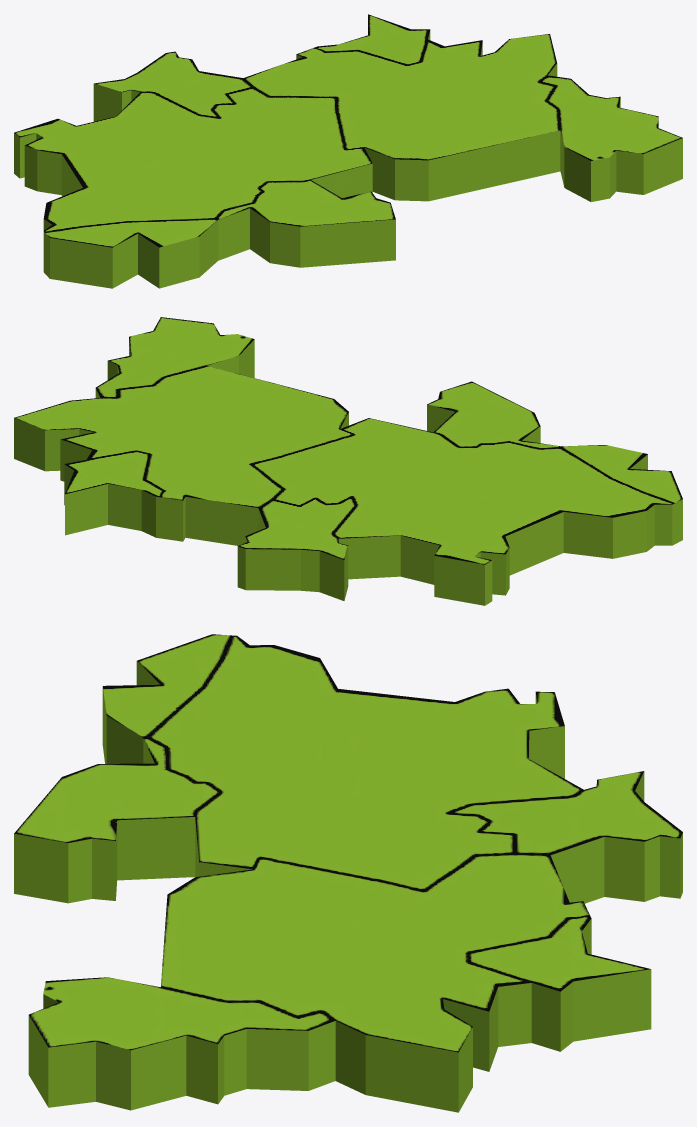
The model's file is Norte.fbx.
3 renders of one model, top to bottom at view 1: azimuth 30°, elevation 25°; view 2: azimuth 150°, elevation 25°; view 3: azimuth 270°, elevation 25°, orthographic. The views are drawn at different scales.
Parts seen in each view (by area): view 1: Norte; view 2: Norte; view 3: Norte.
Boxes of the visible parts, x1=… form: Norte: x1=14, y1=14, x2=682, y2=288; Norte: x1=14, y1=317, x2=682, y2=605; Norte: x1=14, y1=634, x2=682, y2=1112.
Size of the model in its own units: 249 by 16.73 by 168.
1 material, 1 textured.
